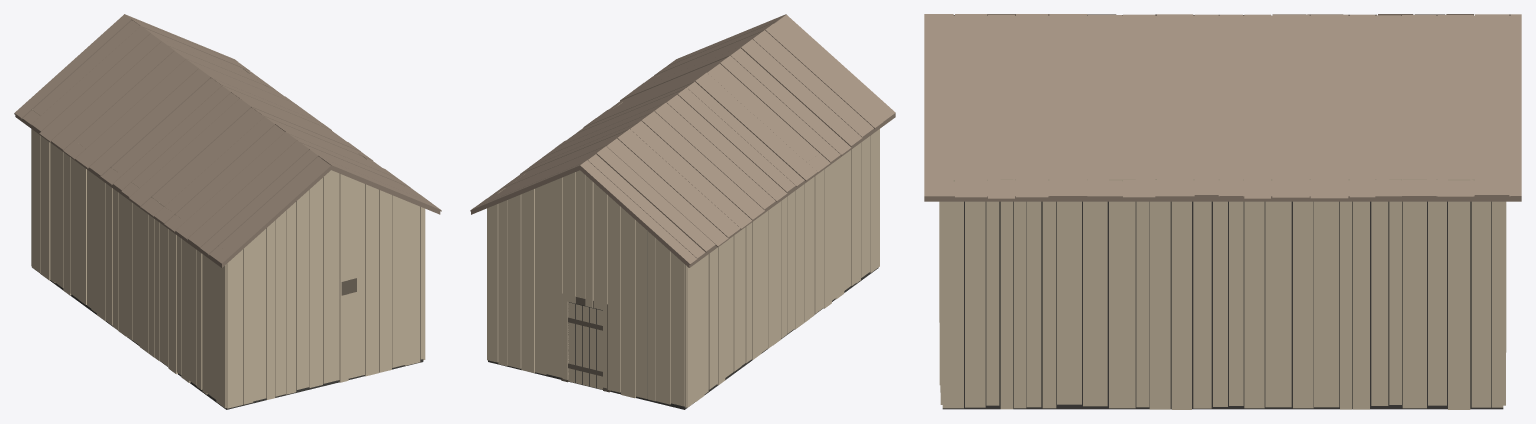
The model's file is recon_1835_south_w4_032__inferred_1835.glb.
3 renders of one model, left to right at view 1: azimuth 30°, elevation 25°; view 2: azimuth 150°, elevation 25°; view 3: azimuth 270°, elevation 25°, orthographic. The views are drawn at different scales.
Parts seen in each view (by area): view 1: recon_1835_south_w4_032__inferred_1835; view 2: recon_1835_south_w4_032__inferred_1835; view 3: recon_1835_south_w4_032__inferred_1835.
Part boxes in pixels (left/top/right/bottom): recon_1835_south_w4_032__inferred_1835: left=14, top=14, right=441, bottom=409; recon_1835_south_w4_032__inferred_1835: left=470, top=14, right=895, bottom=409; recon_1835_south_w4_032__inferred_1835: left=924, top=14, right=1521, bottom=409.
Bounding box in the file's own units: 5.44 × 5.26 × 8.73.
